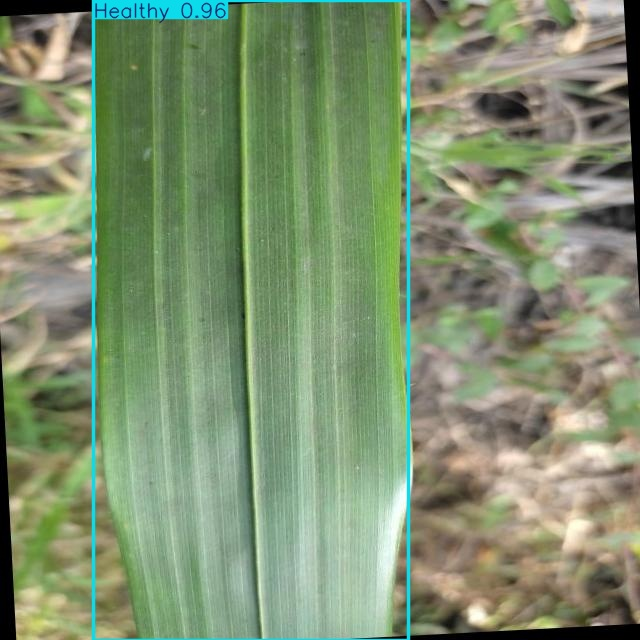Healthy: (94, 0, 408, 640)
